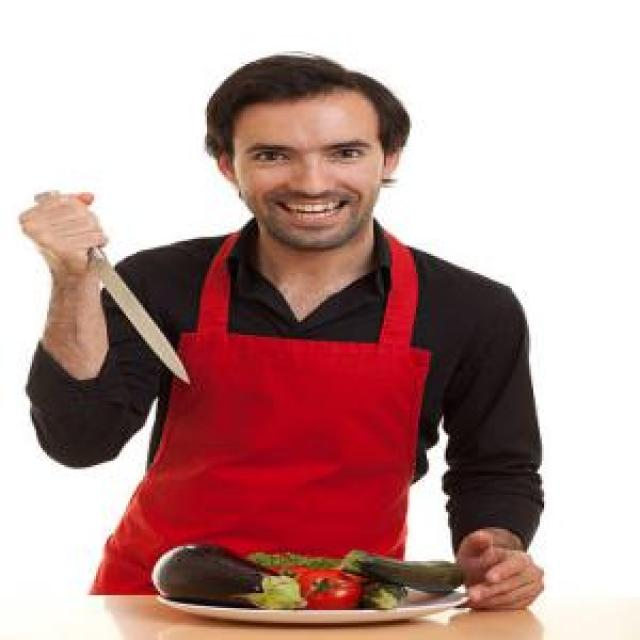knife: (28, 190, 198, 386)
